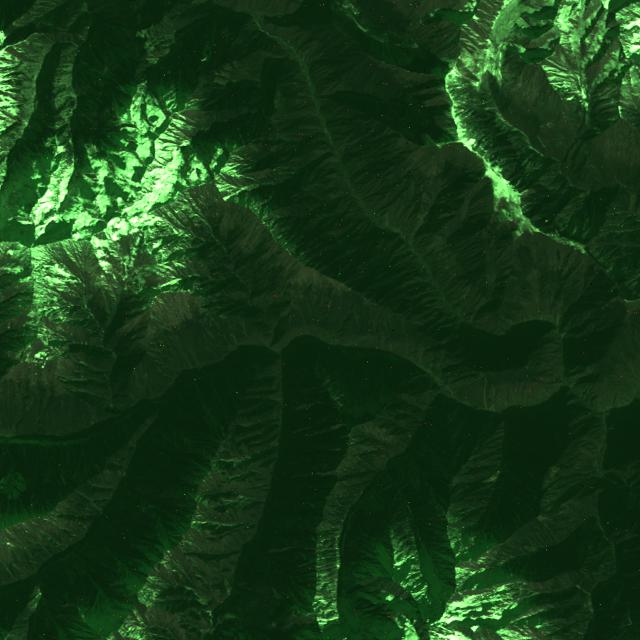landslides: (32, 245, 84, 285), (269, 307, 291, 346), (180, 228, 215, 243), (451, 68, 479, 86), (407, 218, 428, 240), (156, 366, 179, 385), (467, 21, 486, 40), (474, 15, 491, 31), (242, 321, 252, 345), (479, 1, 493, 18), (480, 472, 498, 484), (228, 328, 239, 346), (476, 13, 494, 24), (489, 385, 496, 412), (483, 377, 488, 410), (576, 585, 591, 596), (102, 286, 109, 306), (503, 325, 512, 340), (187, 298, 196, 313), (280, 166, 302, 172), (418, 349, 426, 365), (517, 318, 527, 330), (575, 461, 597, 466), (524, 545, 537, 553), (192, 0, 212, 5), (154, 158, 164, 168)
